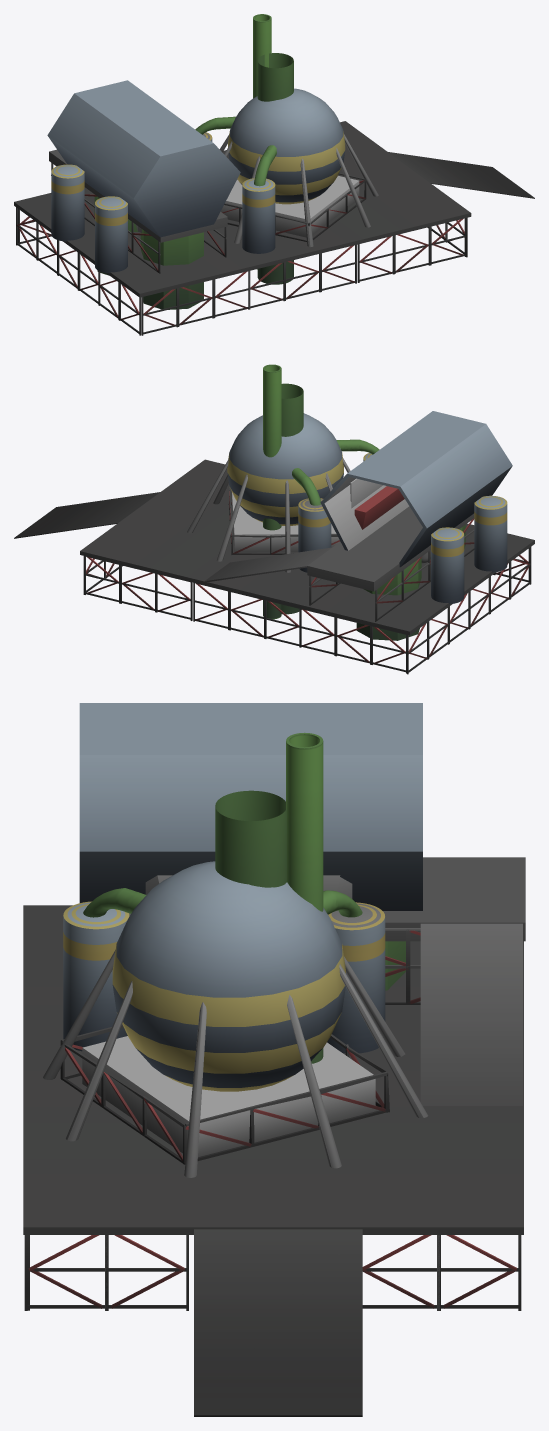
The model's file is GameJam_BaseTextured.fbx.
The picture shows the model from 3 angles, top to bottom: view 1: azimuth 30°, elevation 25°; view 2: azimuth 150°, elevation 25°; view 3: azimuth 270°, elevation 25°; orthographic projection. The views are drawn at different scales.
Visible parts, largest first — view 1: baseStation:Mesh; view 2: baseStation:Mesh; view 3: baseStation:Mesh.
Boxes of the visible parts, box(x1,y1,x2,y2) form: baseStation:Mesh: box(14, 14, 534, 335); baseStation:Mesh: box(14, 364, 534, 674); baseStation:Mesh: box(23, 703, 525, 1416).
Bounding box in the file's own units: 25.38 × 13.6 × 12.47.
1 material, 1 textured.
